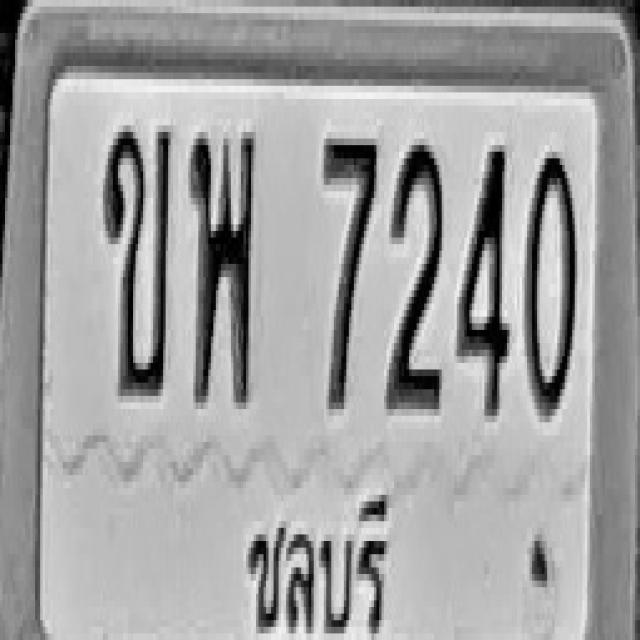0: (523, 145, 576, 416)
11KhorKhai: (103, 125, 171, 396)
2: (385, 139, 443, 409)
39PhorPan: (189, 125, 255, 402)
4: (456, 138, 508, 416)
7: (322, 132, 376, 409)
Chonburi: (223, 475, 409, 640)
